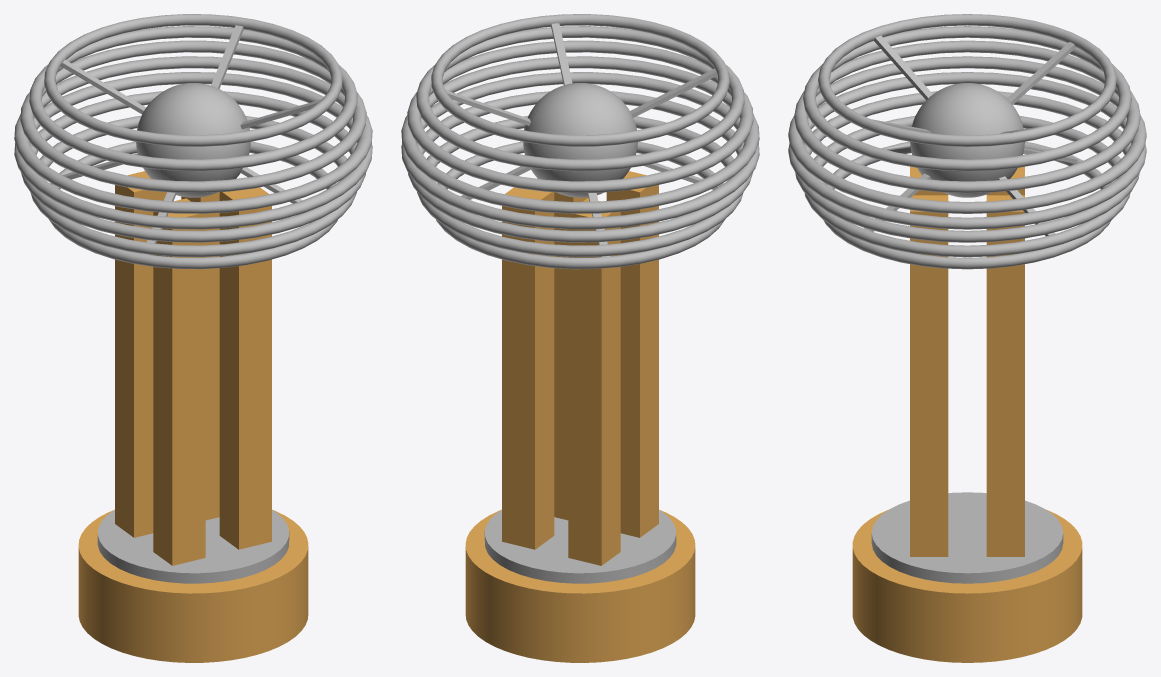
Rendered from OrangeTowerModel.fbx.
The picture shows the model from 3 angles, left to right: view 1: azimuth 30°, elevation 25°; view 2: azimuth 150°, elevation 25°; view 3: azimuth 270°, elevation 25°; orthographic projection.
Parts seen in each view (by area): view 1: polySurface3; view 2: polySurface3; view 3: polySurface3.
Boxes of the visible parts, box(x1,y1,x2,y2) form: polySurface3: box(14, 14, 372, 662); polySurface3: box(401, 14, 759, 662); polySurface3: box(788, 14, 1146, 662).
Bounding box in the file's own units: 9.36 × 15.53 × 9.36.
